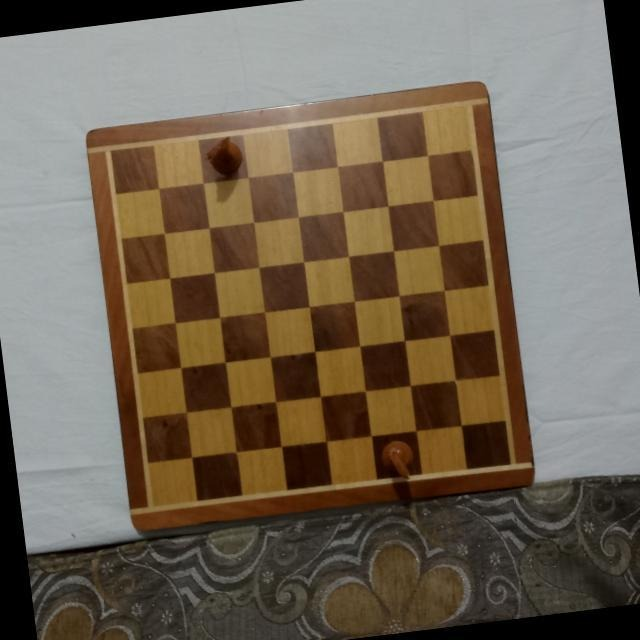white-knight: (380, 435, 420, 483), (206, 133, 246, 177)
